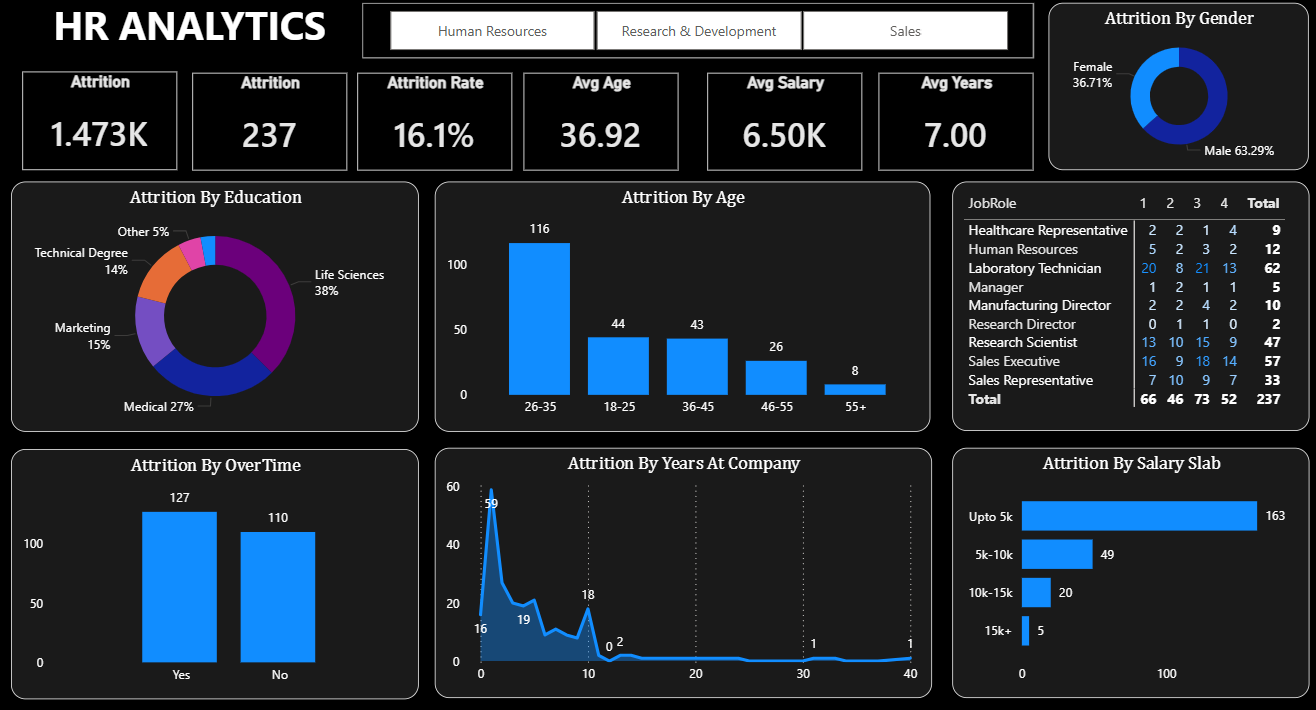

This screenshot's page, from the dashboard's own definition file:
{"tool":"powerbi","page":{"name":"HR Analytics Clean","canvas":[1280,720],"ordinal":0},"visuals":[{"type":"donutChart","title":"Attrition By Education","fields":{"Category":["HR Analytics Clean.EducationField"],"Y":["Sum(HR Analytics Clean.AttritionCountclean)"]},"box":[14.7,180.4,393.9,241.7],"z":0},{"type":"columnChart","title":"Attrition By Age","fields":{"Category":["HR Analytics Clean.AgeGroup"],"Y":["Sum(HR Analytics Clean.AttritionCountclean)"]},"box":[423.3,180.4,478.5,241.7],"z":1000},{"type":"pivotTable","fields":{"Rows":["HR Analytics Clean.JobRole"],"Columns":["HR Analytics Clean.JobSatisfaction"],"Values":["Sum(HR Analytics Clean.AttritionCountclean)"]},"box":[923.2,181,344.8,240.9],"z":2000},{"type":"barChart","title":"Attrition By Salary Slab","fields":{"Category":["HR Analytics Clean.SalarySlab"],"Y":["Sum(HR Analytics Clean.AttritionCountclean)"]},"box":[922.7,438,344.8,241.7],"z":3000},{"type":"areaChart","title":"Attrition By Years At Company","fields":{"Y":["Sum(HR Analytics Clean.AttritionCountclean)"],"Category":["HR Analytics Clean.YearsAtCompany"]},"box":[423.3,438,479.8,241.7],"z":4000},{"type":"textbox","box":[25.8,0,322.7,60.1],"z":5000},{"type":"cardVisual","title":"Avg Age","fields":{"Data":["Avg(HR Analytics Clean.Age)"]},"box":[509.2,76.1,149.7,94.5],"z":6000},{"type":"cardVisual","title":"Attrition Rate","fields":{"Data":["HR Analytics Clean.AttritionRate"]},"box":[348.5,76.1,149.7,94.5],"z":7000},{"type":"cardVisual","title":"Attrition","fields":{"Data":["Sum(HR Analytics Clean.AttritionCountclean)"]},"box":[189,76.1,149.7,94.5],"z":8000},{"type":"cardVisual","title":"Avg Years","fields":{"Data":["Avg(HR Analytics Clean.YearsAtCompany)"]},"box":[851.5,76.1,149.7,94.5],"z":9000},{"type":"cardVisual","title":"Avg Salary","fields":{"Data":["Avg(HR Analytics Clean.MonthlyIncome)"]},"box":[685.9,76.1,149.7,94.5],"z":10000},{"type":"donutChart","title":"Attrition By Gender","fields":{"Category":["HR Analytics Clean.Gender"],"Y":["Sum(HR Analytics Clean.AttritionCountclean)"]},"box":[1016,8.6,251.5,162],"z":11000},{"type":"slicer","fields":{"Values":["HR Analytics Clean.Department"]},"box":[353.4,8.6,647.9,54],"z":12000},{"type":"columnChart","title":"Attrition By OverTime","fields":{"Category":["HR Analytics Clean.OverTime"],"Y":["Sum(HR Analytics Clean.AttritionCountclean)"]},"box":[14.7,439.3,393.9,241.7],"z":13000},{"type":"cardVisual","title":"Attrition","fields":{"Data":["CountNonNull(HR Analytics Clean.EmpID)"]},"box":[25.3,74.8,149.6,95.3],"z":14000}]}

Visuals, with their boxes in screenshot pixels (x1, y1, x2, y2):
"Attrition By Education" donutChart: box(11, 182, 408, 425)
"Attrition By Age" columnChart: box(423, 182, 905, 425)
pivotTable - HR Analytics Clean.JobRole x HR Analytics Clean.JobSatisfaction: box(927, 182, 1274, 425)
"Attrition By Salary Slab" barChart: box(926, 441, 1273, 685)
"Attrition By Years At Company" areaChart: box(423, 441, 906, 685)
textbox: box(23, 0, 348, 61)
"Avg Age" cardVisual: box(510, 77, 660, 172)
"Attrition Rate" cardVisual: box(348, 77, 498, 172)
"Attrition" cardVisual: box(187, 77, 338, 172)
"Avg Years" cardVisual: box(854, 77, 1005, 172)
"Avg Salary" cardVisual: box(688, 77, 838, 172)
"Attrition By Gender" donutChart: box(1020, 9, 1273, 172)
slicer - HR Analytics Clean.Department: box(353, 9, 1005, 63)
"Attrition By OverTime" columnChart: box(11, 443, 408, 686)
"Attrition" cardVisual: box(22, 75, 173, 171)
